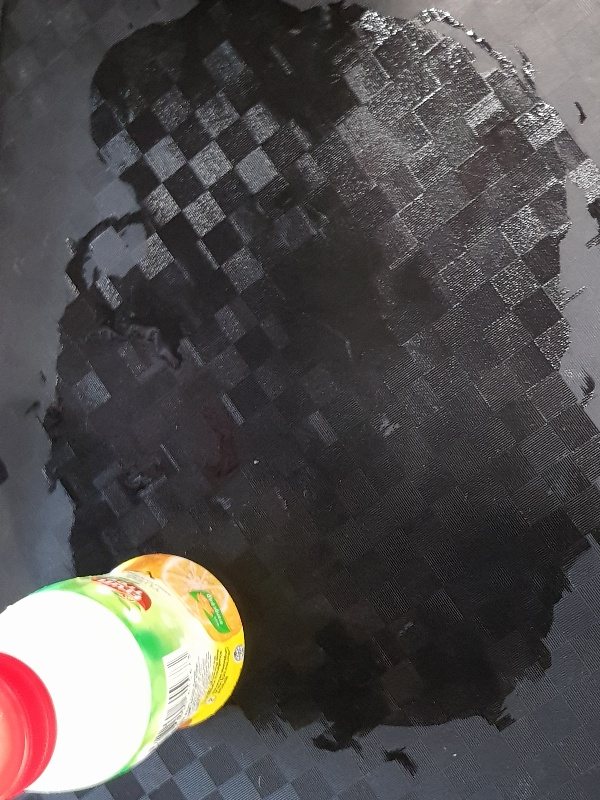Fruit Tree Yuzu Mixed Juice Drink: (1, 551, 247, 800)
